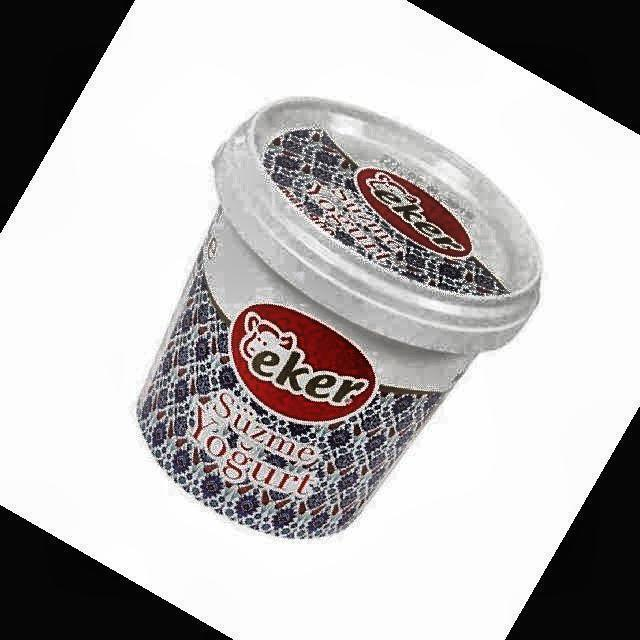plastic: (138, 98, 541, 539)
